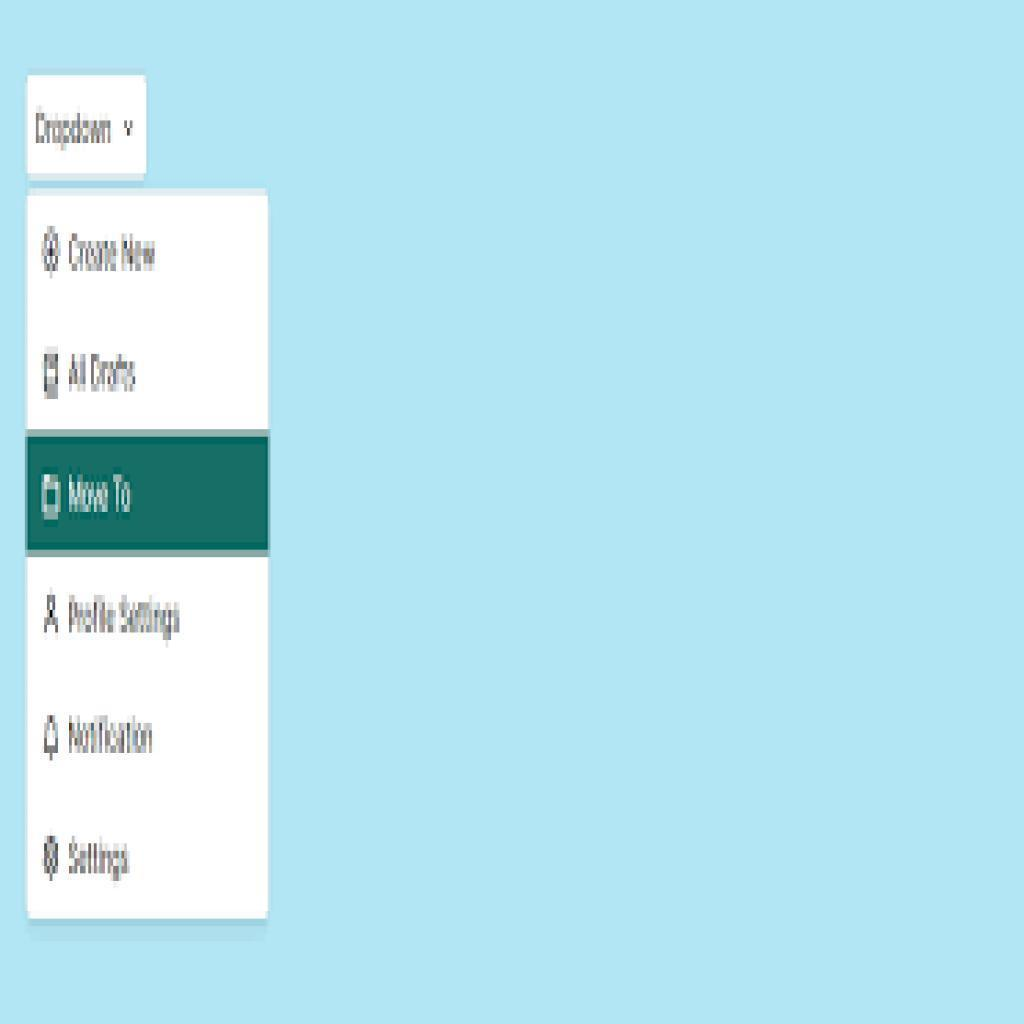button: (28, 434, 270, 552)
dropdown: (25, 74, 145, 178)
icon: (41, 350, 62, 401), (42, 225, 62, 276), (44, 832, 62, 886), (44, 715, 60, 760), (45, 594, 62, 636)
label: (65, 591, 187, 648), (68, 230, 161, 278), (65, 715, 157, 759), (68, 350, 143, 399), (65, 838, 133, 889)
